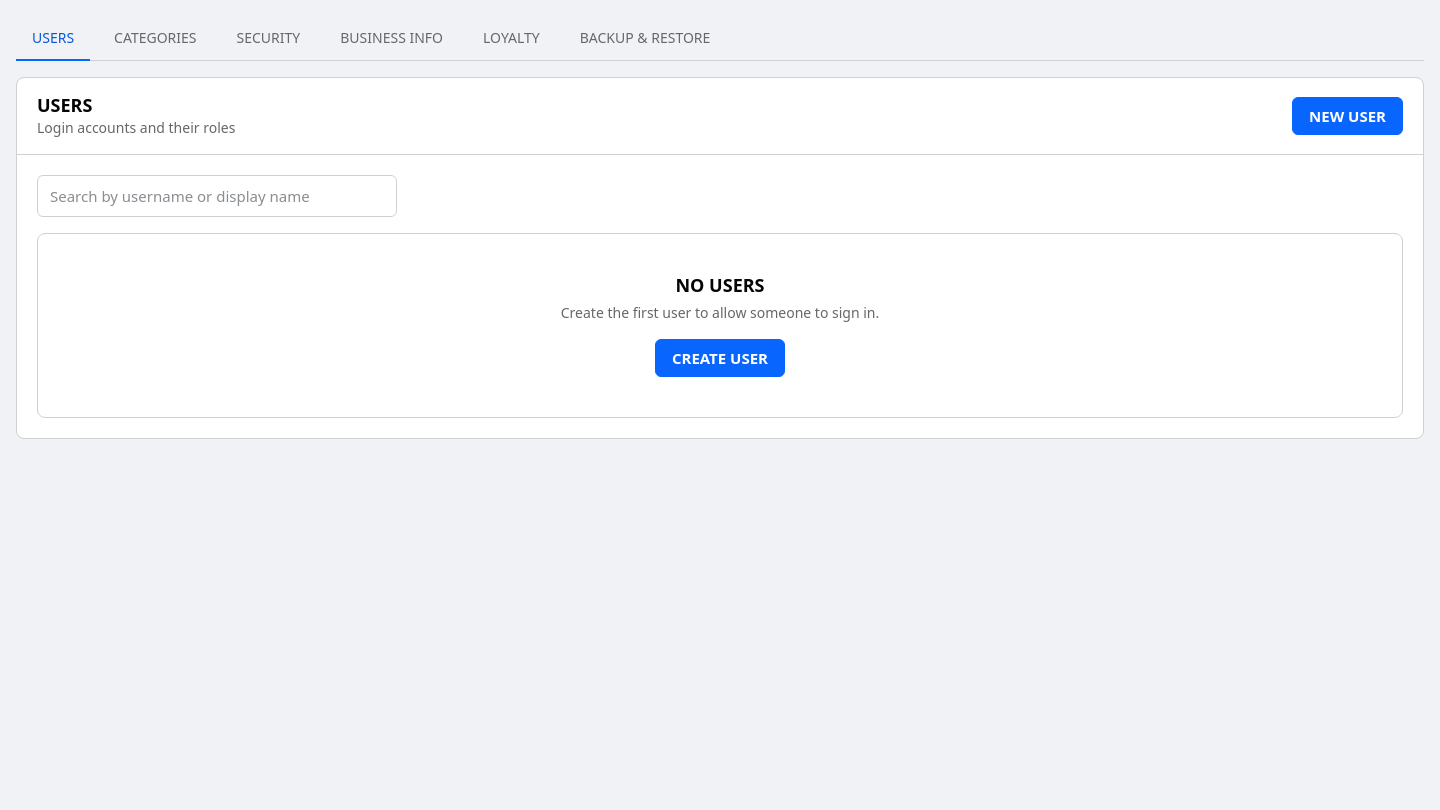
Test: SettingsPage › allows admins to save earning and tier redemption rules
This screenshot has width=1440, height=810.
Step 1. Click the tab "Loyalty" → (511, 38), box [467,16,556,61]
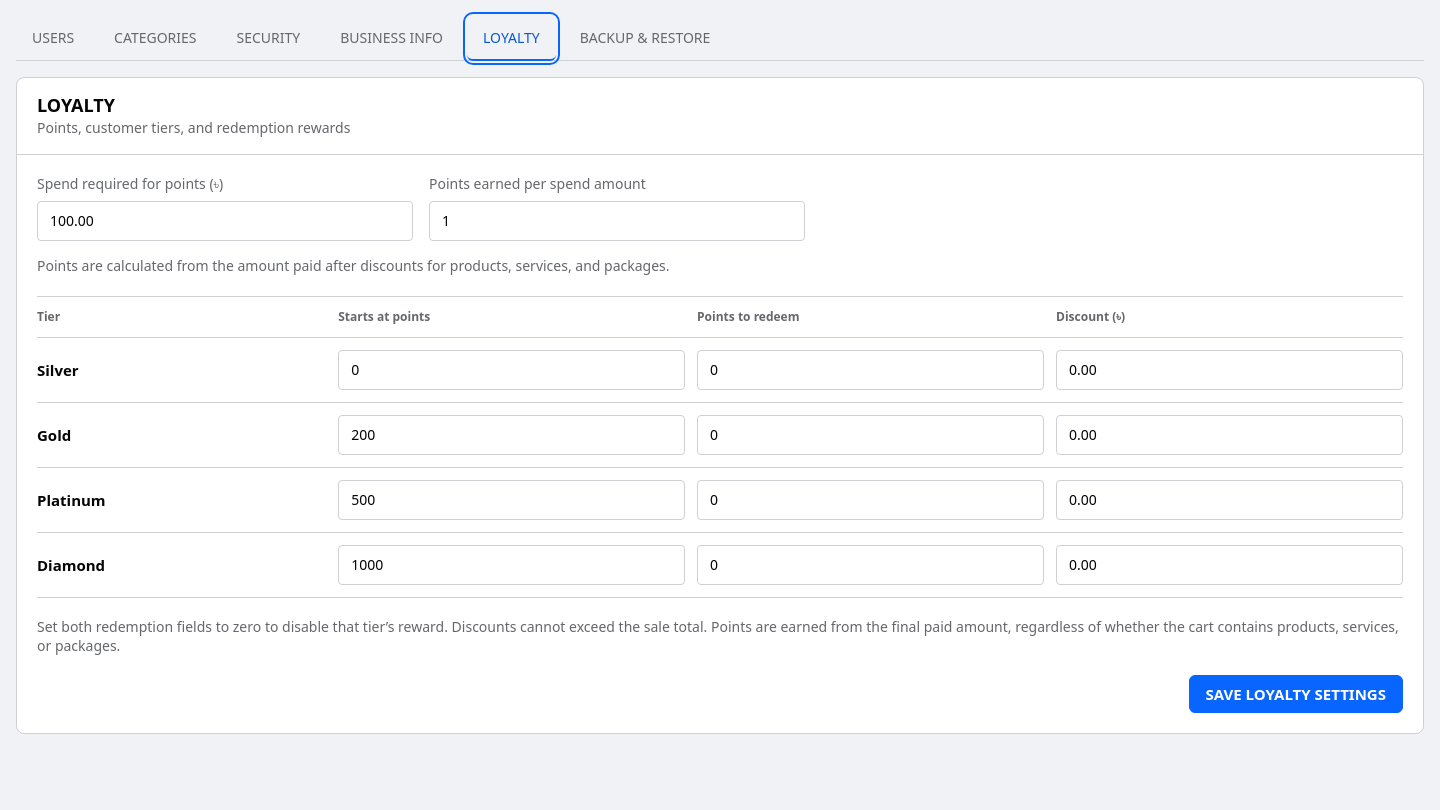
Expected: the number field named "Gold points to redeem" is shown, [697,415,1044,455]
Step 2. Replace the text in the number field labelled "Spend required for points (৳)" with "200" → (225, 221), box [37,201,413,241]
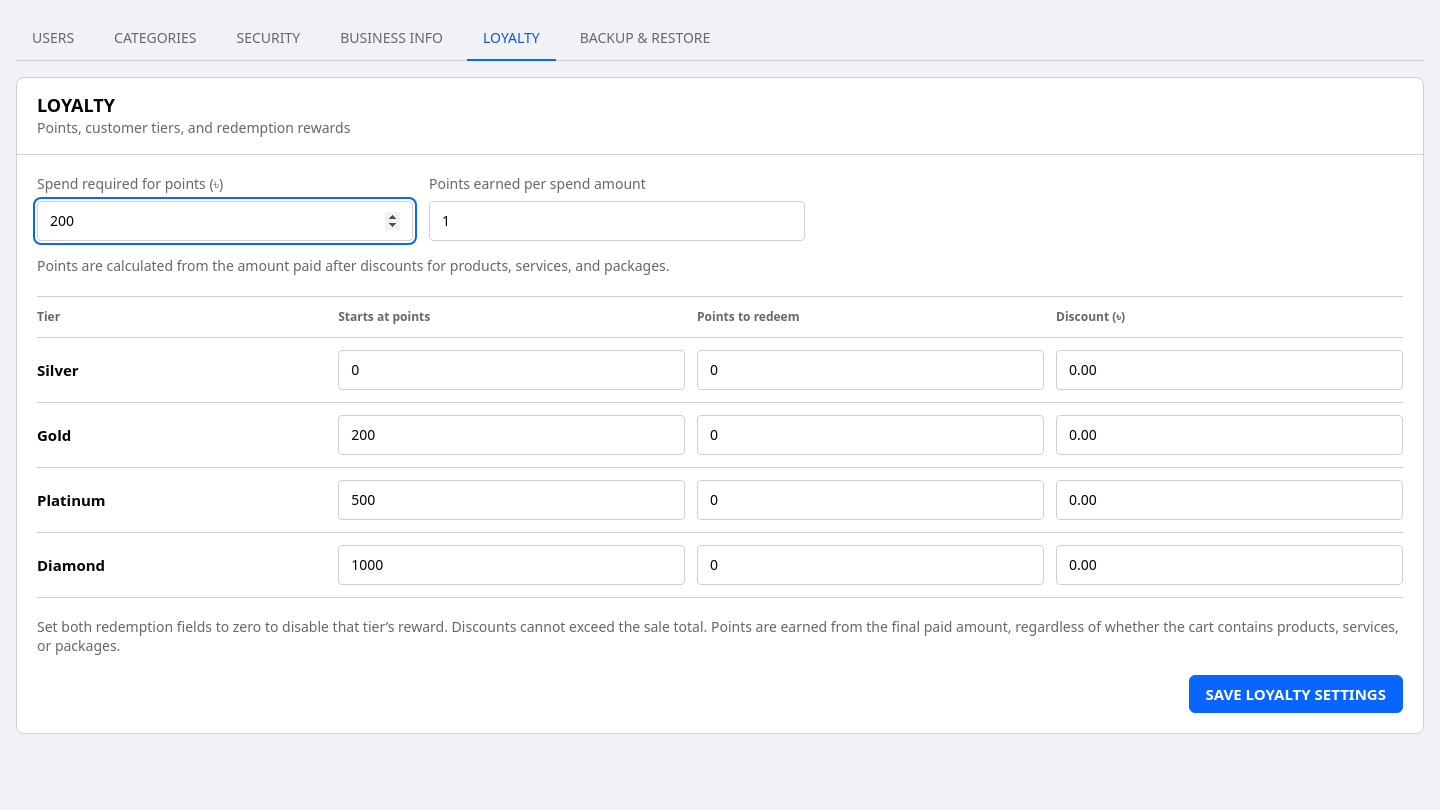
Step 3. Replace the text in the number field named "Gold points to redeem" with "100" → (871, 435), box [697,415,1044,455]
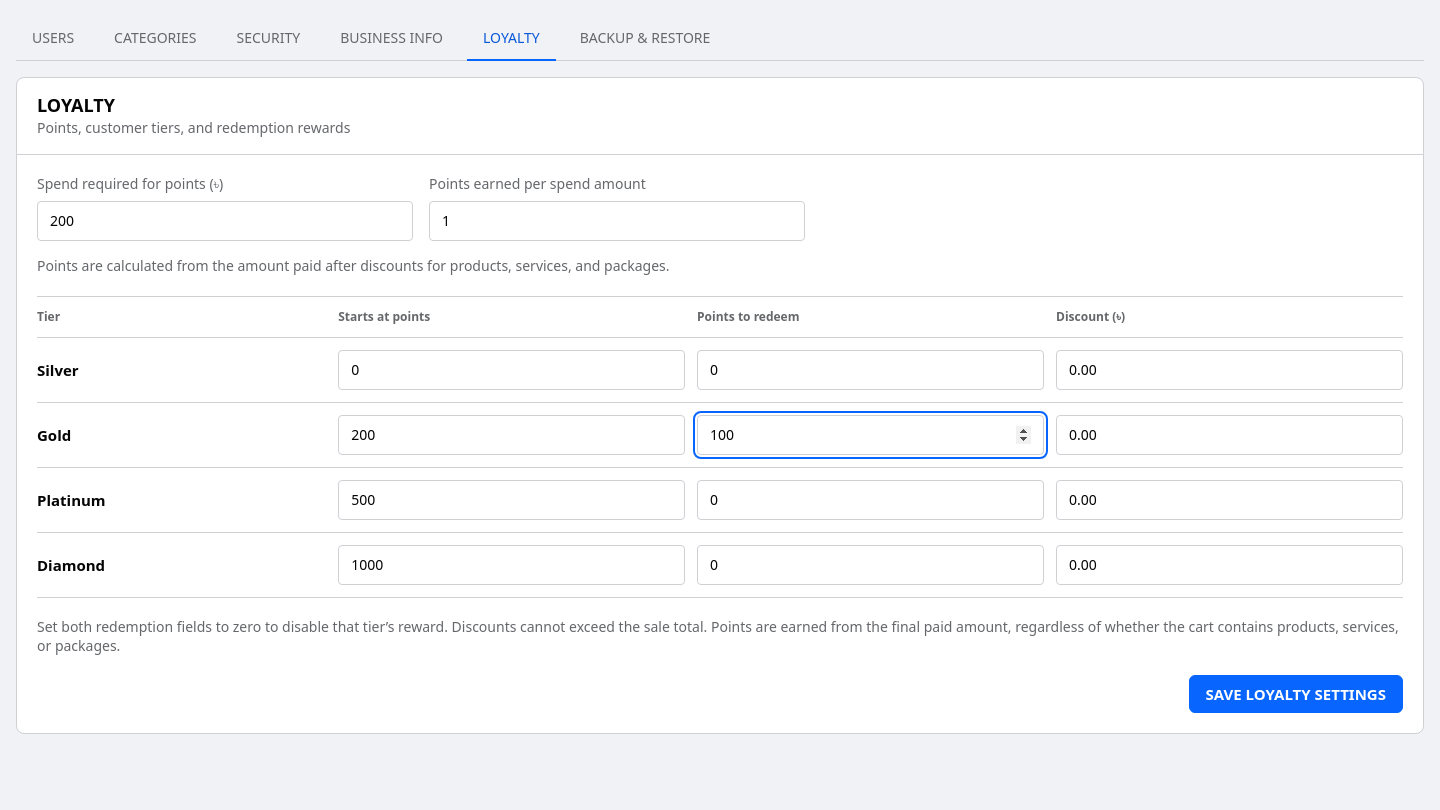
Step 4. Replace the text in the number field named "Gold discount" with "50" → (1230, 435), box [1056,415,1403,455]
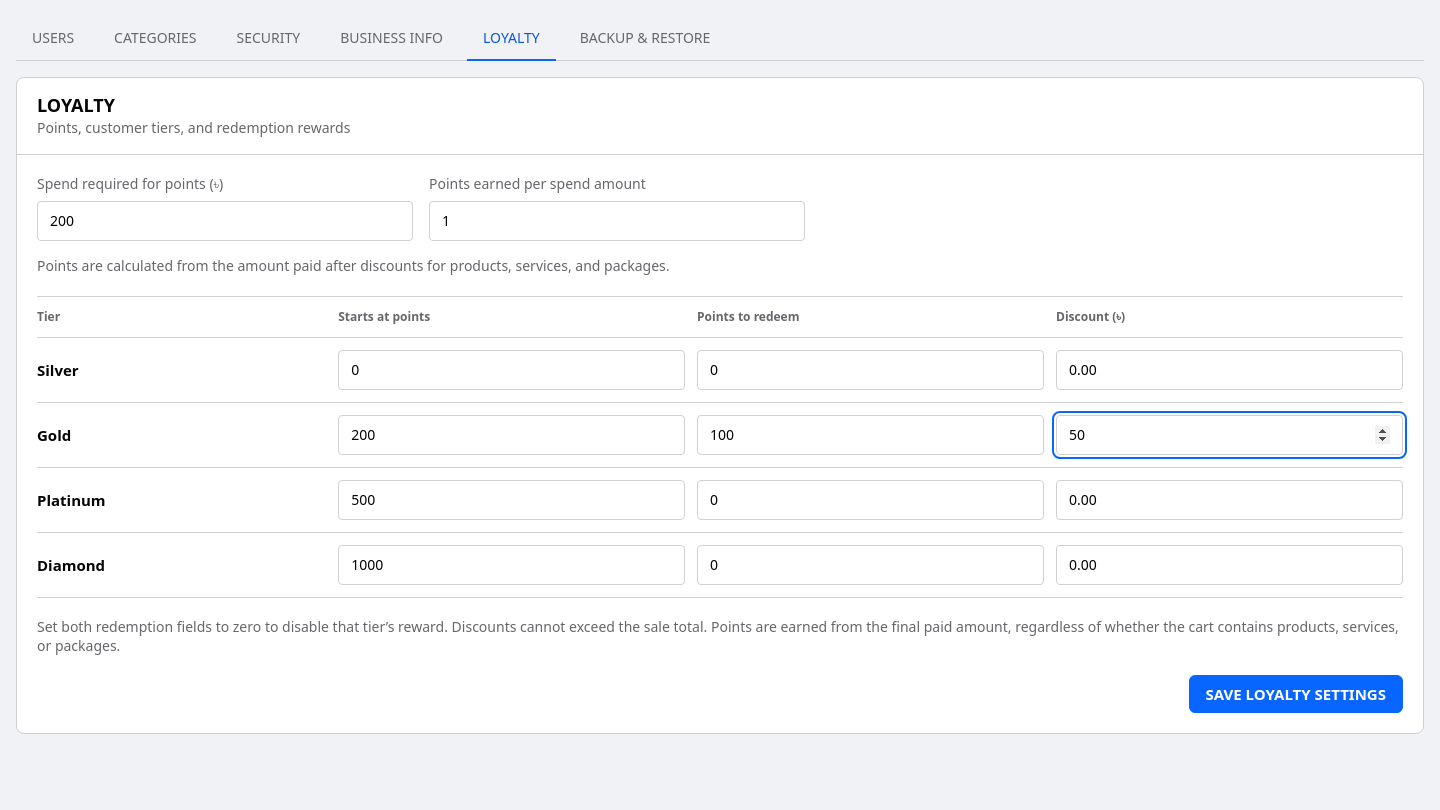
Step 5. Click the button "Save loyalty settings" → (1296, 694), box [1188,675,1403,713]
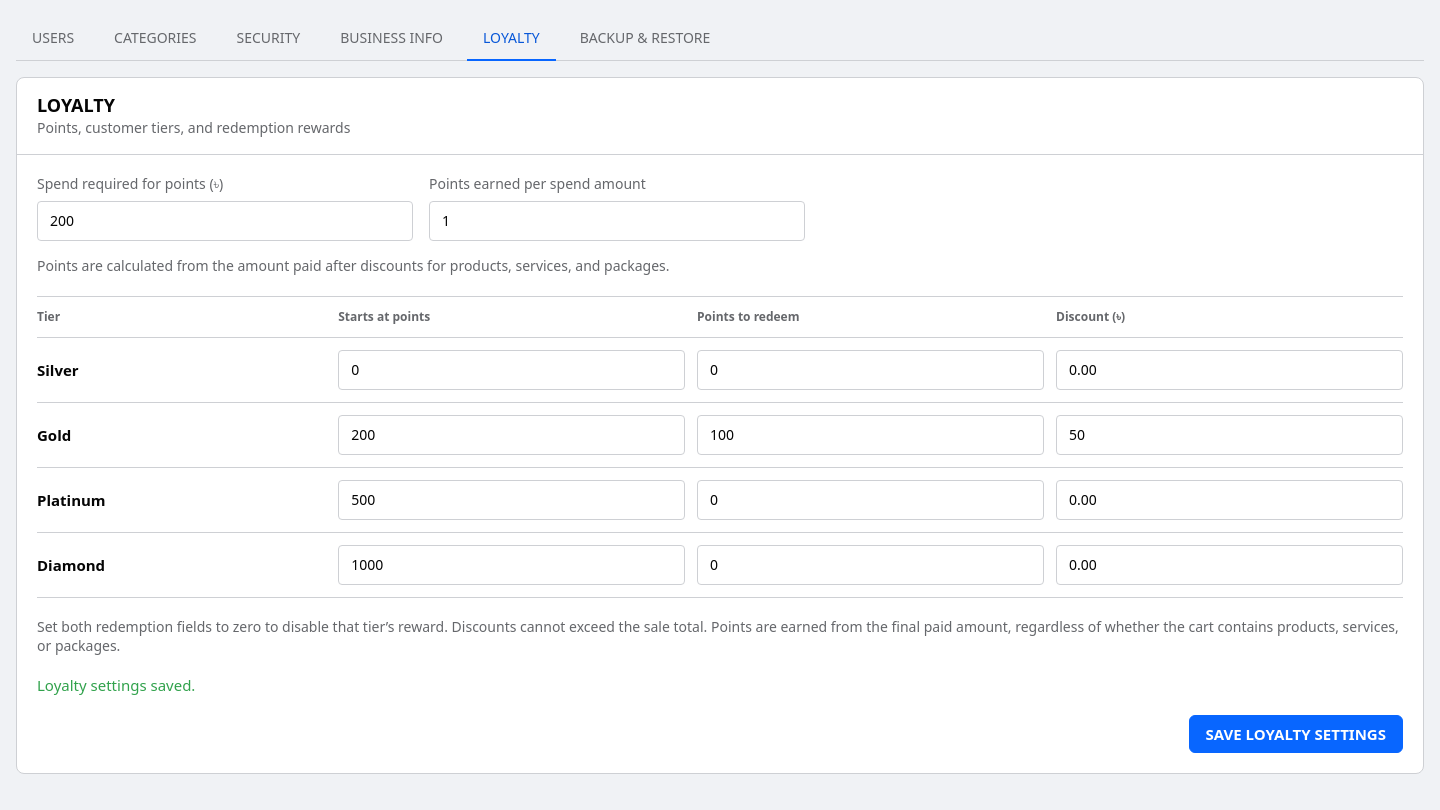
Expected: the message reads "Loyalty settings saved.", [37,675,195,695]
